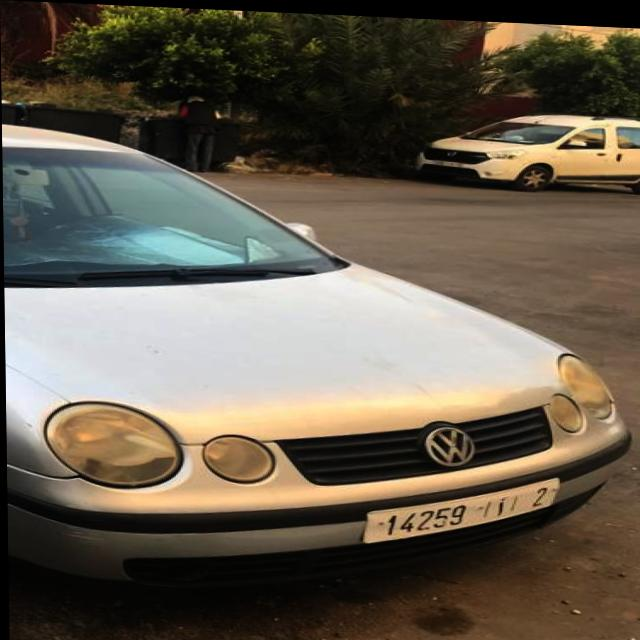License-Plate: (362, 473, 559, 540)
